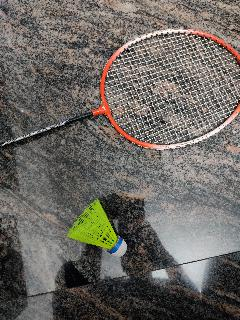shuttlecock: (66, 198, 126, 256)
